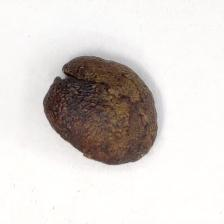NG: (44, 55, 146, 149)
